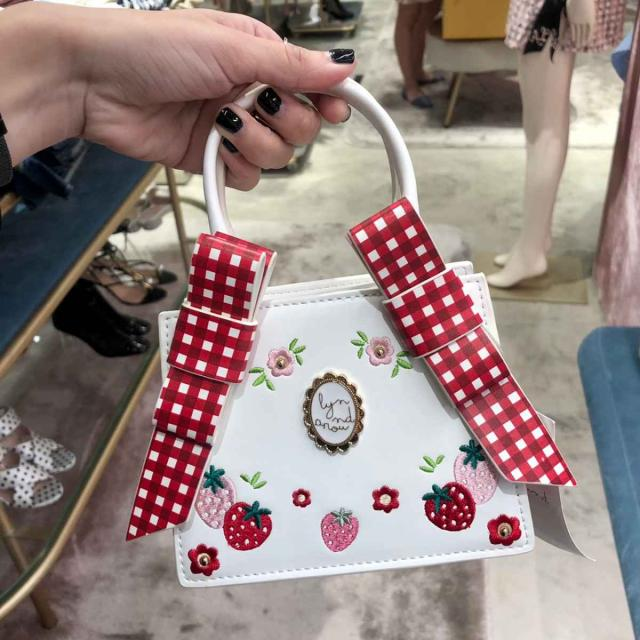Handbag: (118, 248, 551, 594)
